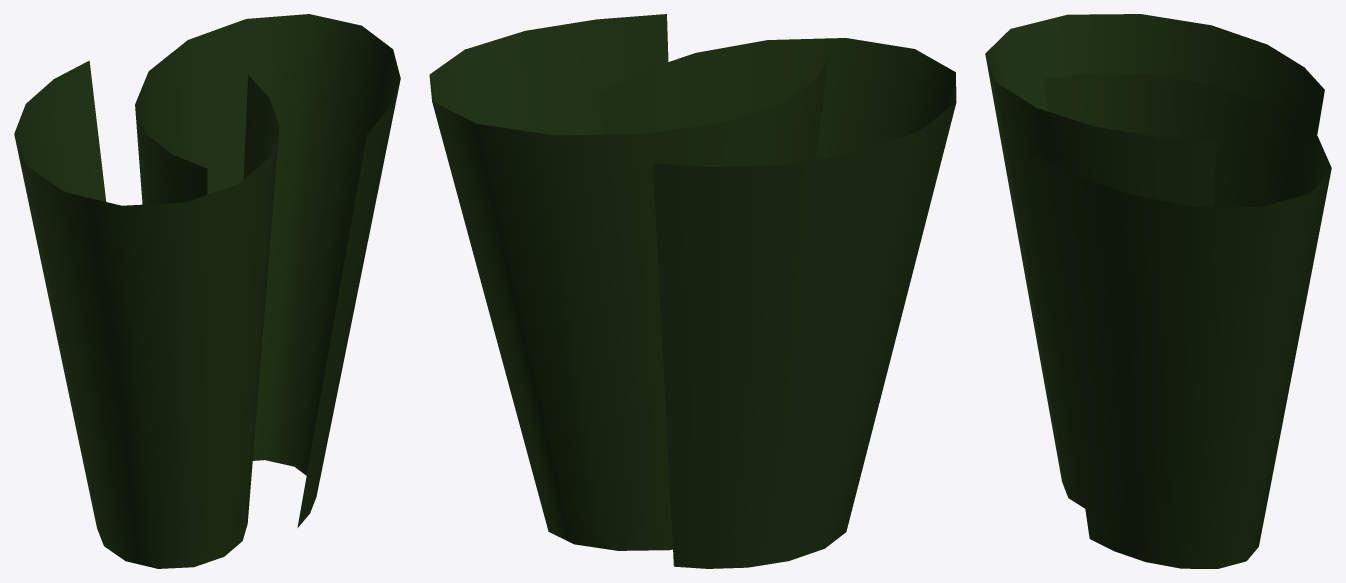
The model's file is S_Grass_01.fbx.
3 views of the same model, side by side, from view 1: azimuth 30°, elevation 25°; view 2: azimuth 150°, elevation 25°; view 3: azimuth 270°, elevation 25° (orthographic). The views are drawn at different scales.
Visible parts, largest first — view 1: Plane004; view 2: Plane004; view 3: Plane004.
Part boxes in pixels (x1,y1,x2,y2): Plane004: (14,14,400,568); Plane004: (429,14,956,568); Plane004: (985,14,1331,568).
Size of the model in its own units: 17.03 by 16.65 by 12.91.
